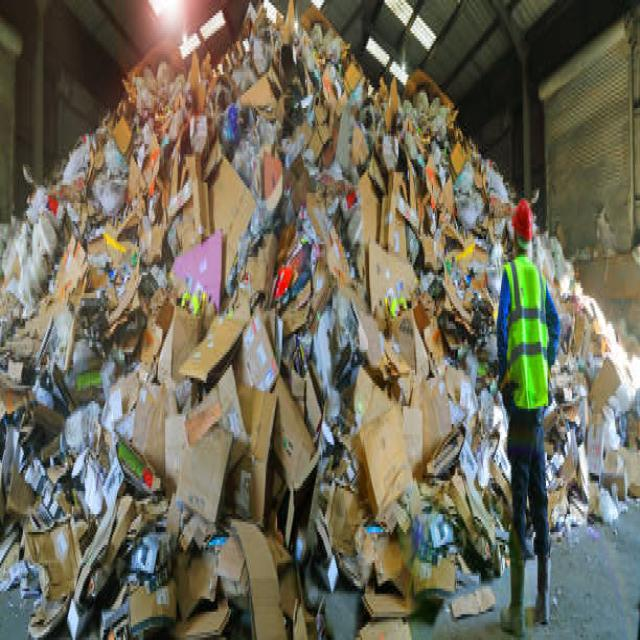cardboard: (23, 85, 463, 583)
